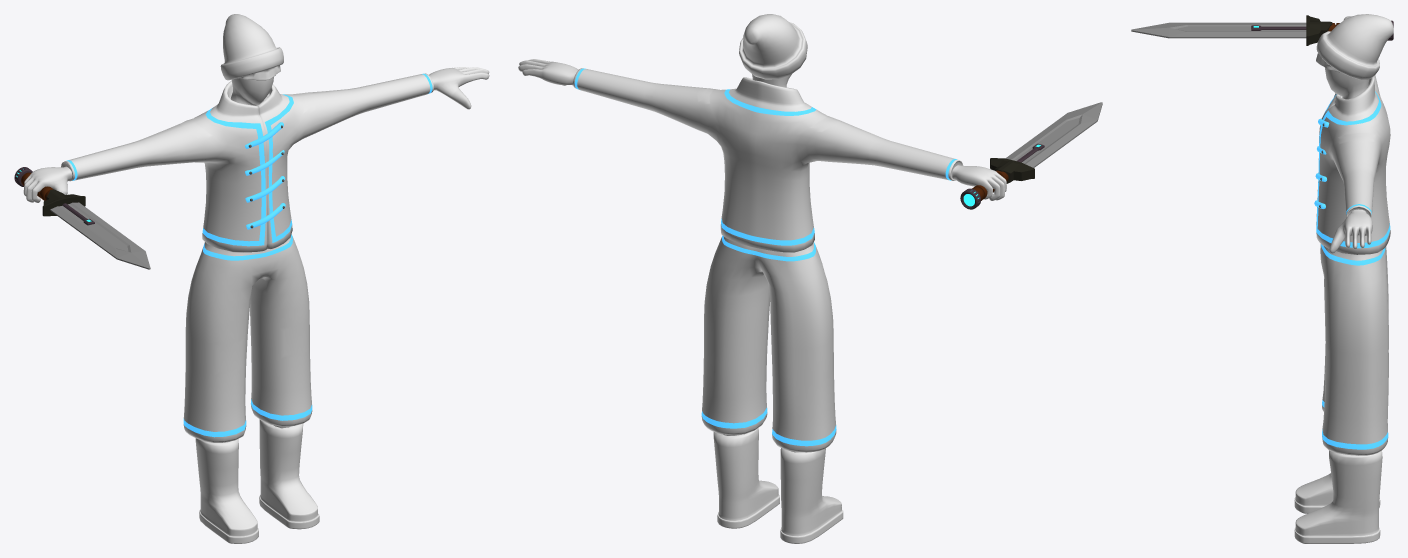
Rendered from ivanushka.fbx.
3 renders of one model, left to right at view 1: azimuth 30°, elevation 25°; view 2: azimuth 150°, elevation 25°; view 3: azimuth 270°, elevation 25°, orthographic. The views are drawn at different scales.
Parts seen in each view (by area): view 1: Ivan; view 2: Ivan; view 3: Ivan.
Part boxes in pixels (<box>): Ivan: <box>14,14,489,543</box>; Ivan: <box>518,14,1102,543</box>; Ivan: <box>1131,14,1393,543</box>.
Bounding box in the file's own units: 3271 × 3269 × 1541.
